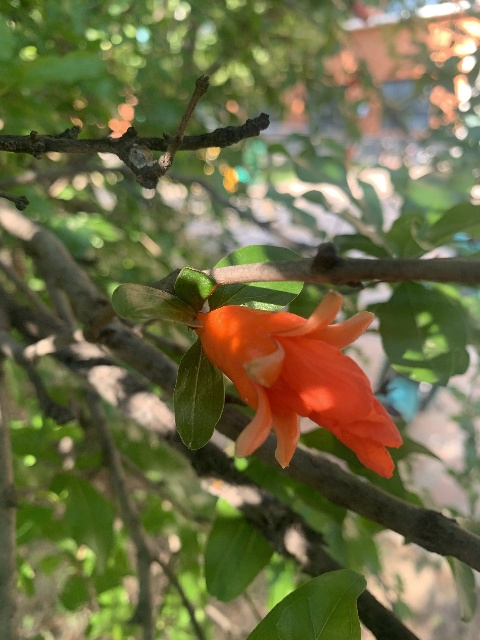flower: (196, 290, 402, 476)
